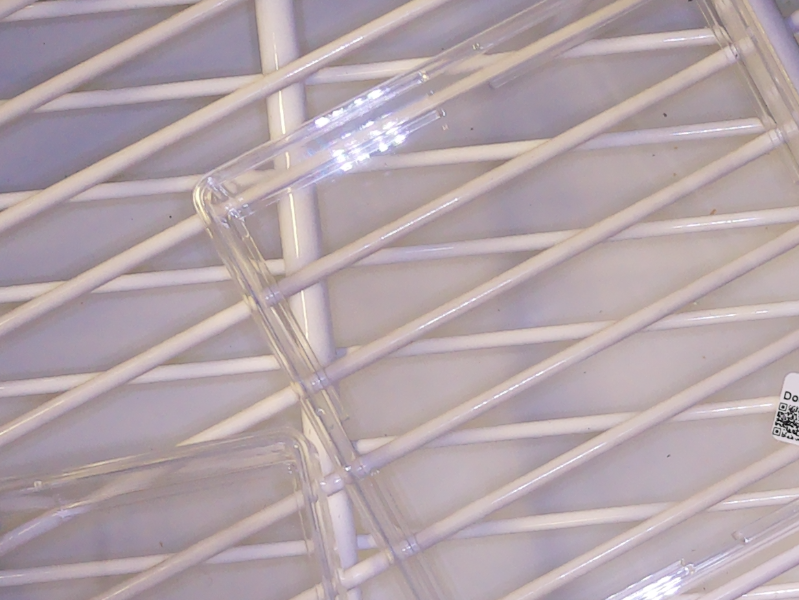plate: (191, 1, 799, 595), (1, 427, 340, 600)
